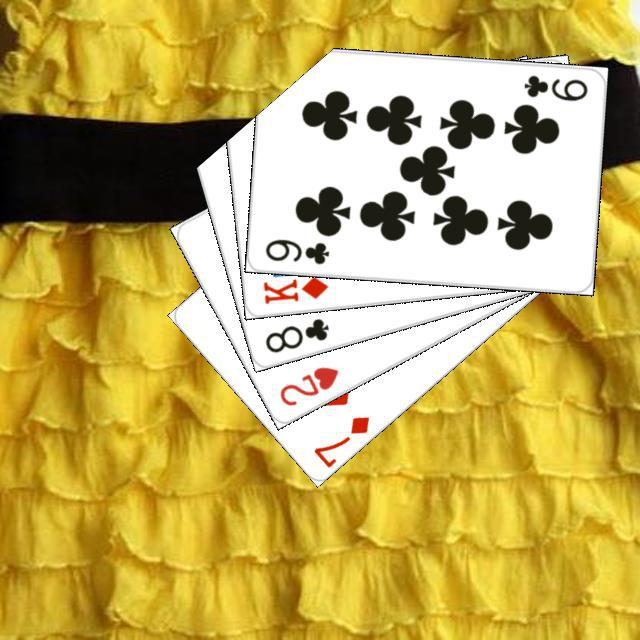2h: (274, 361, 341, 408)
7d: (308, 411, 372, 468)
8c: (260, 313, 331, 355)
9c: (519, 70, 589, 103), (260, 234, 331, 266)
Kd: (258, 272, 330, 306)
